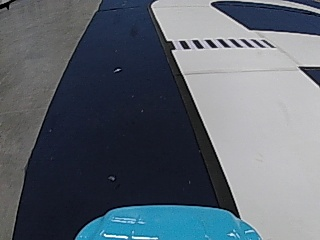CrossWalk: (168, 35, 270, 51)
